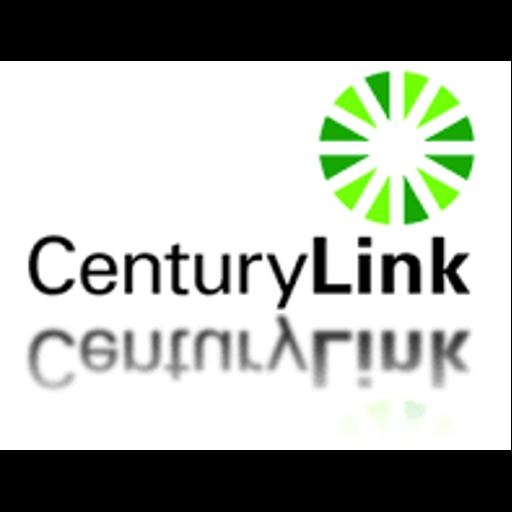CenturyLink: (0, 61, 511, 450)
